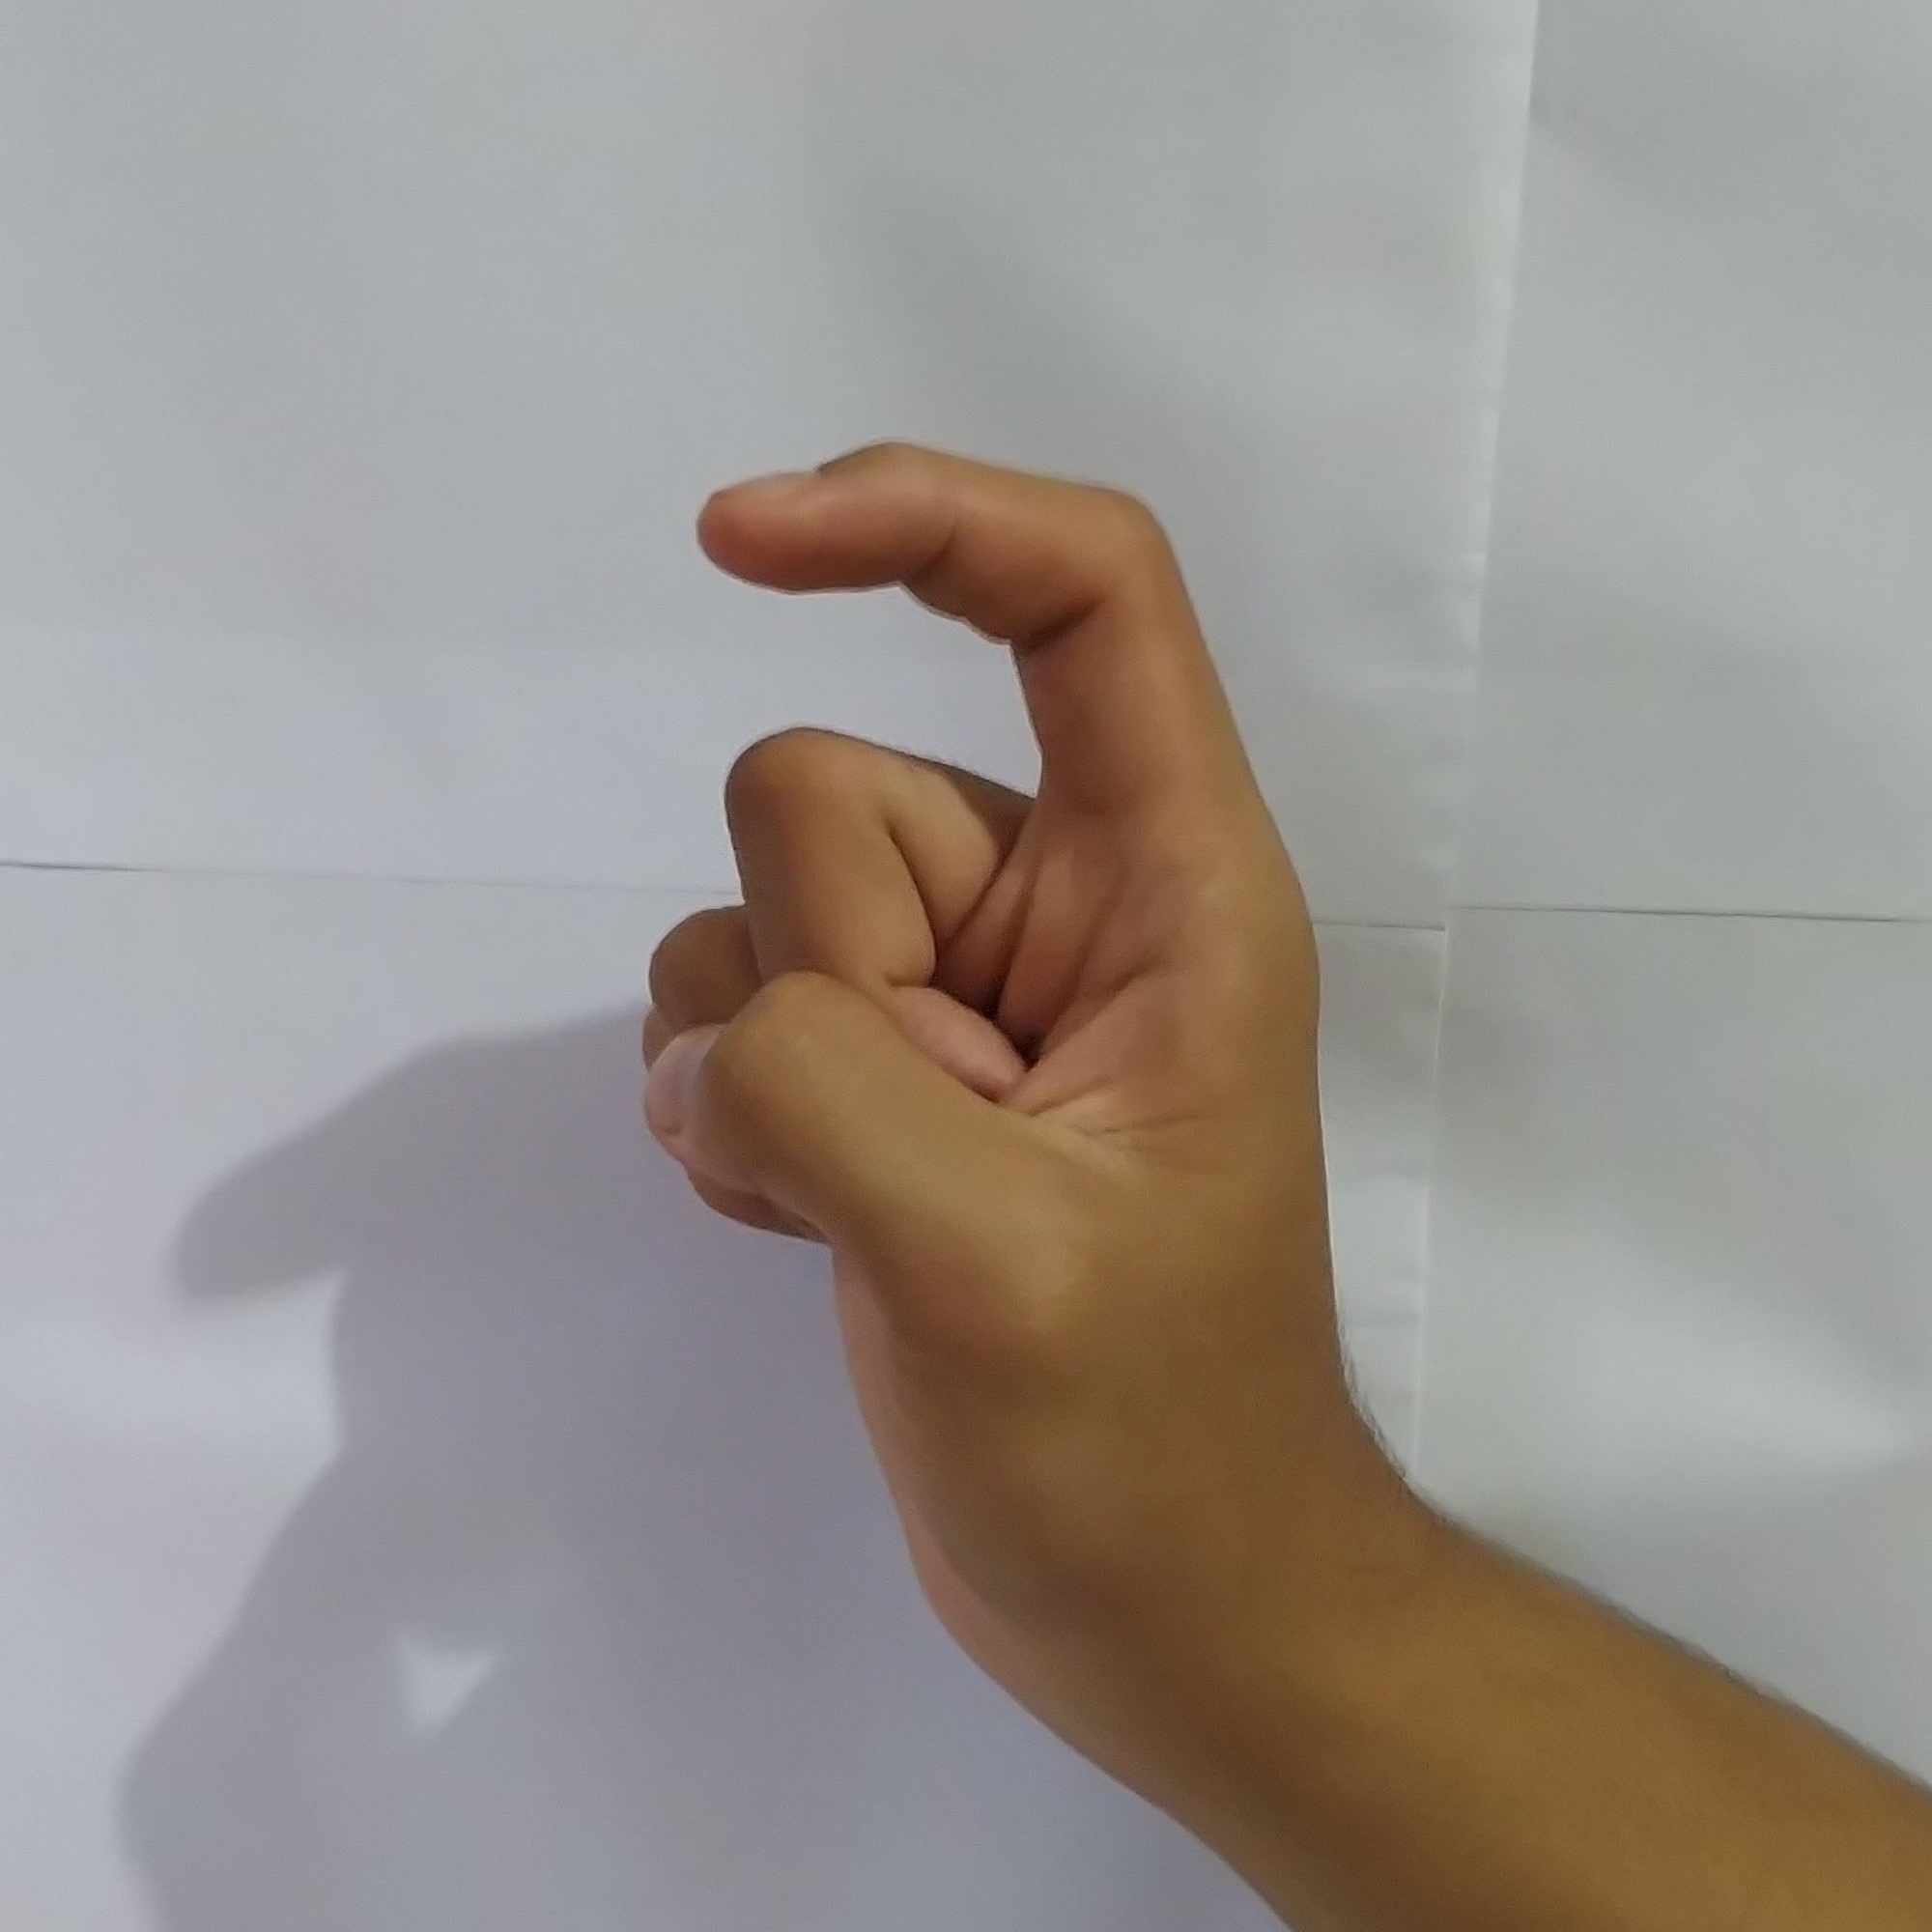X: (609, 403, 1392, 1700)
